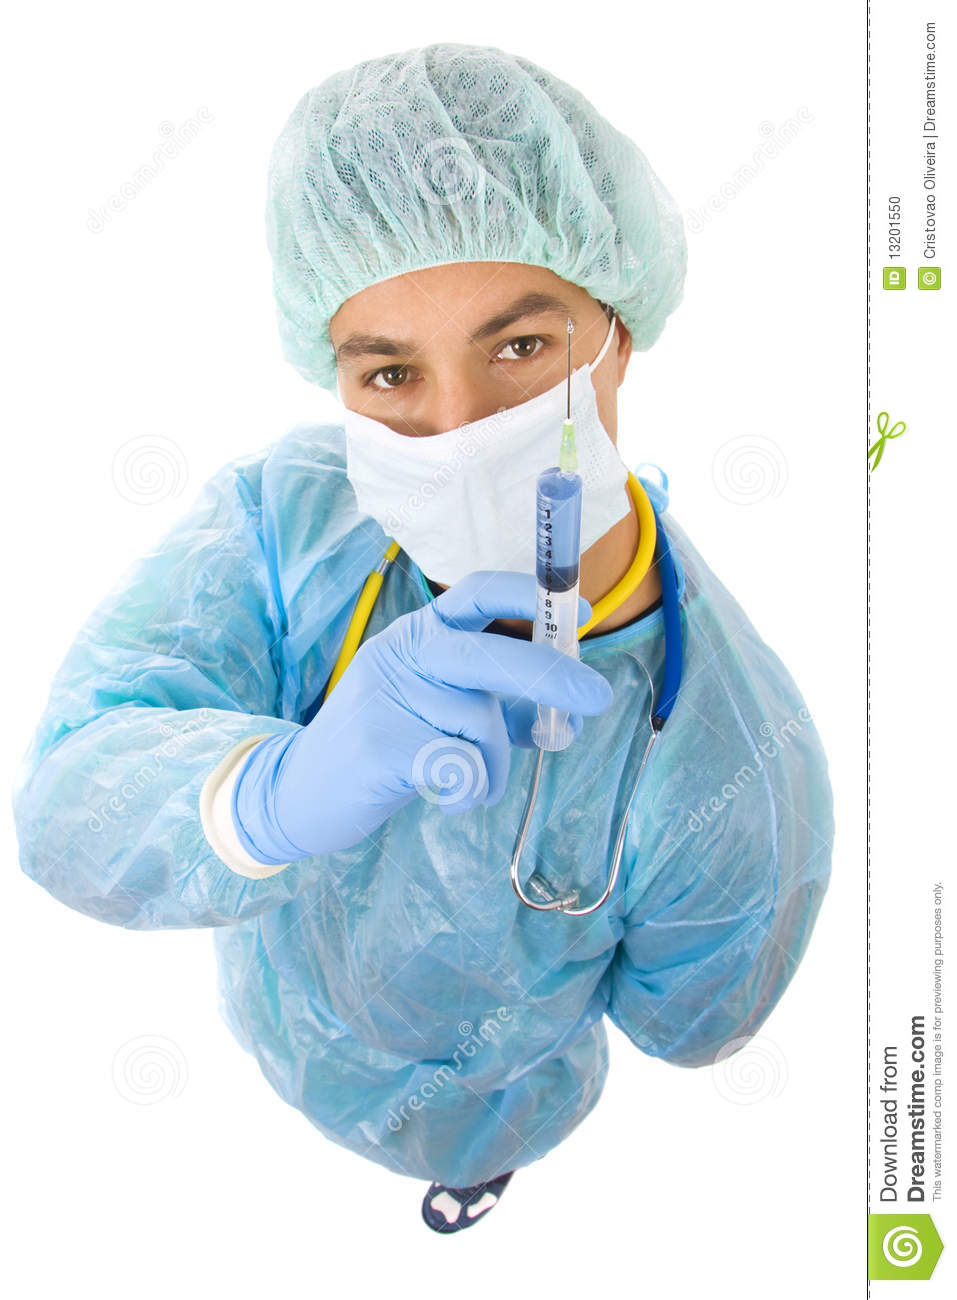mask: (344, 405, 626, 621)
